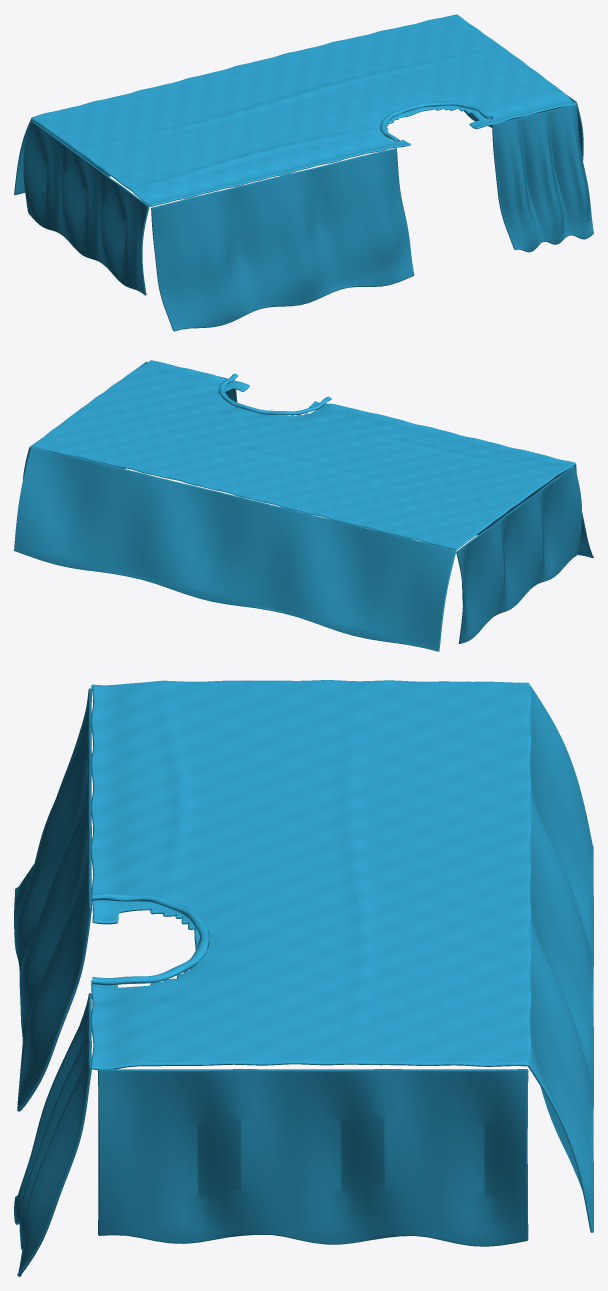
The model's file is blue_knee_table_cover.fbx.
3 views of the same model, one above another, from view 1: azimuth 30°, elevation 25°; view 2: azimuth 150°, elevation 25°; view 3: azimuth 270°, elevation 25° (orthographic). The views are drawn at different scales.
Parts seen in each view (by area): view 1: cover_one_piece_top_drape_with_front_knee_opening, cover_left_front_hanging_panel, cover_right_front_hanging_panel, cover_left_side_hanging_panel, cover_soft_u_lip_around_90_degree_knee, cover_rear_hanging_panel; view 2: cover_one_piece_top_drape_with_front_knee_opening, cover_rear_hanging_panel, cover_left_side_hanging_panel, cover_soft_u_lip_around_90_degree_knee, cover_left_front_hanging_panel; view 3: cover_one_piece_top_drape_with_front_knee_opening, cover_right_side_hanging_panel, cover_rear_hanging_panel, cover_left_front_hanging_panel, cover_right_front_hanging_panel, cover_soft_u_lip_around_90_degree_knee.
Part boxes in pixels (left/top/right/bottom): cover_one_piece_top_drape_with_front_knee_opening: left=31, top=14, right=576, bottom=206; cover_left_front_hanging_panel: left=151, top=148, right=414, bottom=331; cover_right_front_hanging_panel: left=492, top=104, right=593, bottom=252; cover_left_side_hanging_panel: left=23, top=120, right=149, bottom=295; cover_soft_u_lip_around_90_degree_knee: left=380, top=101, right=493, bottom=143; cover_rear_hanging_panel: left=14, top=119, right=110, bottom=195; cover_one_piece_top_drape_with_front_knee_opening: left=31, top=360, right=575, bottom=549; cover_rear_hanging_panel: left=14, top=446, right=456, bottom=651; cover_left_side_hanging_panel: left=456, top=466, right=581, bottom=643; cover_soft_u_lip_around_90_degree_knee: left=218, top=373, right=331, bottom=415; cover_left_front_hanging_panel: left=477, top=464, right=593, bottom=557; cover_one_piece_top_drape_with_front_knee_opening: left=90, top=680, right=531, bottom=1070; cover_right_side_hanging_panel: left=98, top=1069, right=528, bottom=1246; cover_rear_hanging_panel: left=528, top=685, right=593, bottom=1232; cover_left_front_hanging_panel: left=14, top=688, right=91, bottom=1111; cover_right_front_hanging_panel: left=14, top=993, right=91, bottom=1276; cover_soft_u_lip_around_90_degree_knee: left=92, top=893, right=209, bottom=985.
Size of the model in its own units: 484 by 132 by 299.
